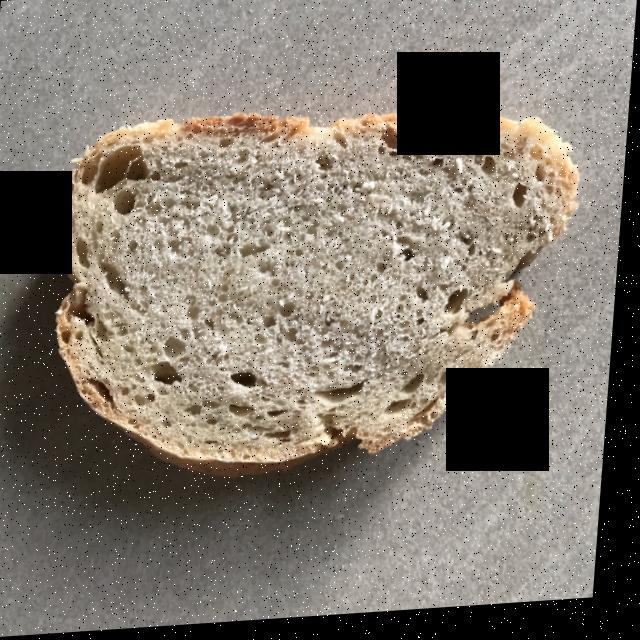bread-wholemeal: (63, 117, 572, 468)
